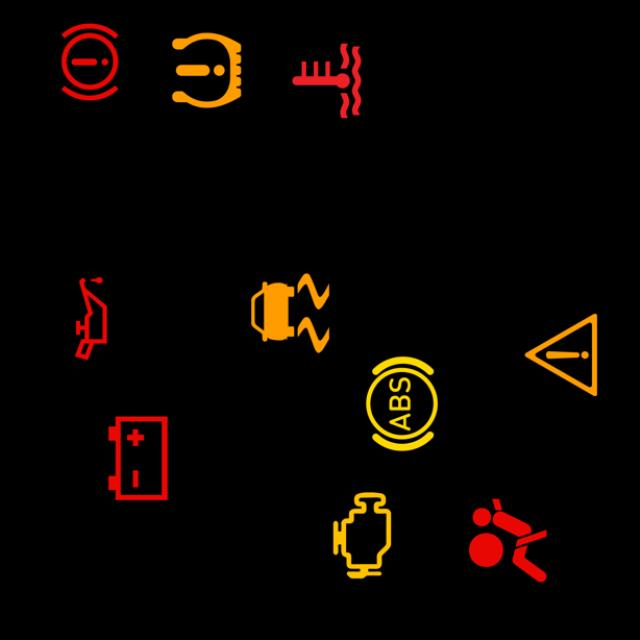Anti Lock Braking System: (350, 352, 452, 456)
Braking System Issue: (38, 10, 140, 114)
Charging System Issue: (85, 406, 188, 509)
Check Engine: (310, 484, 412, 586)
Electronic Stability Problem -ESP-: (238, 262, 341, 364)
Engine Overheating Warning Light: (274, 29, 377, 132)
Low Engine Oil Warning Light: (38, 267, 142, 370)
Low Tire Pressure Warning Light: (154, 19, 258, 122)
Master warning light: (509, 304, 612, 406)
SRS-Airbag: (456, 489, 558, 592)
